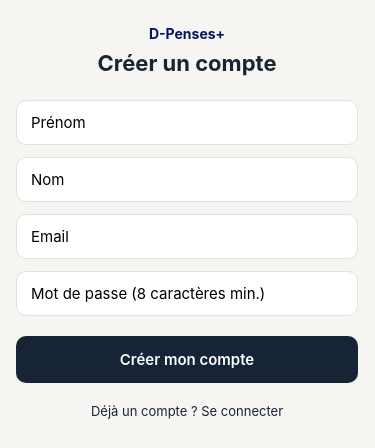
Scenario: email invalide (400) → message backend affiché tel quel
Type "Test" into the field with placeholder "Prénom". click: (187, 122)
box: [16,100,358,145]
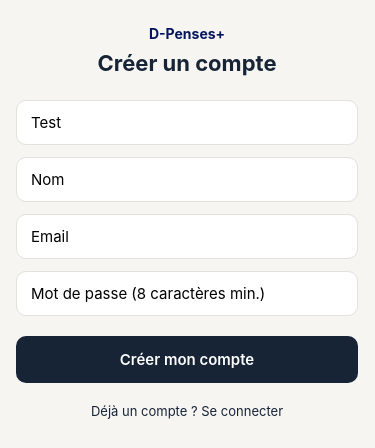
Type "User" into the field with placeholder "Nom". click: (187, 180)
box: [16,157,358,202]
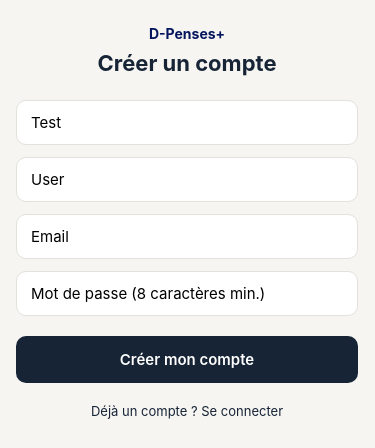
Type "test.user@example.com" into the field with placeholder "Email". click: (187, 236)
box: [16,214,358,259]
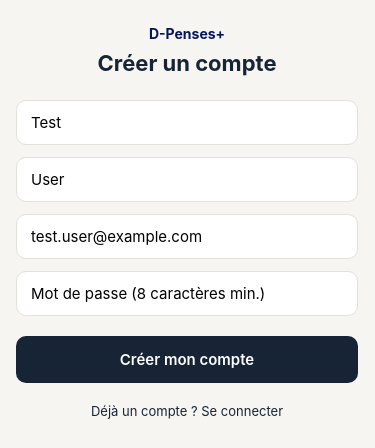
Type "password123" into the password field with placeholder "Mot de passe (8 caractères min.)". click: (187, 294)
box: [16,271,358,316]
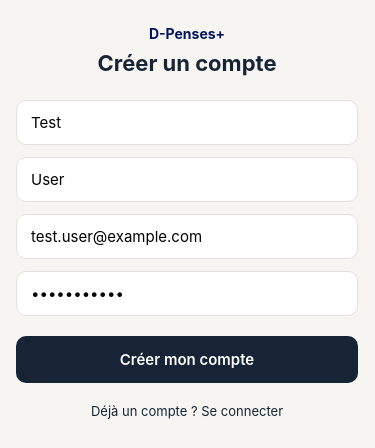
Click the text "Créer mon compte". click: (187, 360)
box: [120,350,254,369]
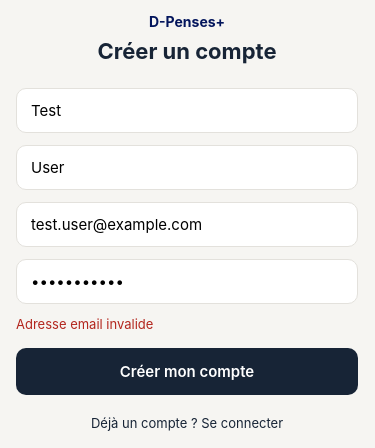
Expected: the text "Adresse email invalide" is shown, [16,316,153,332]
